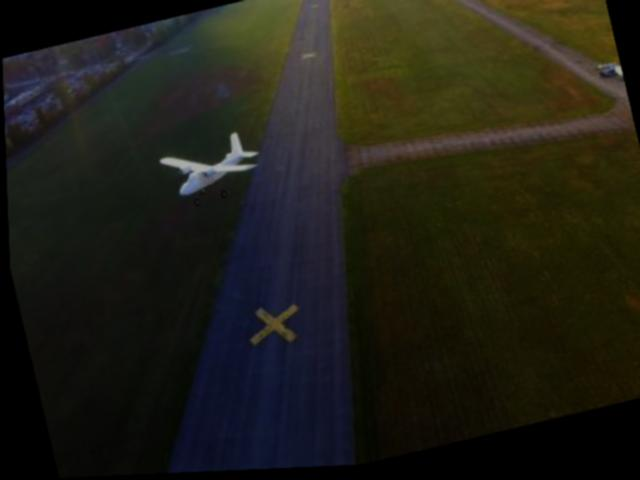uav: (155, 127, 263, 203)
